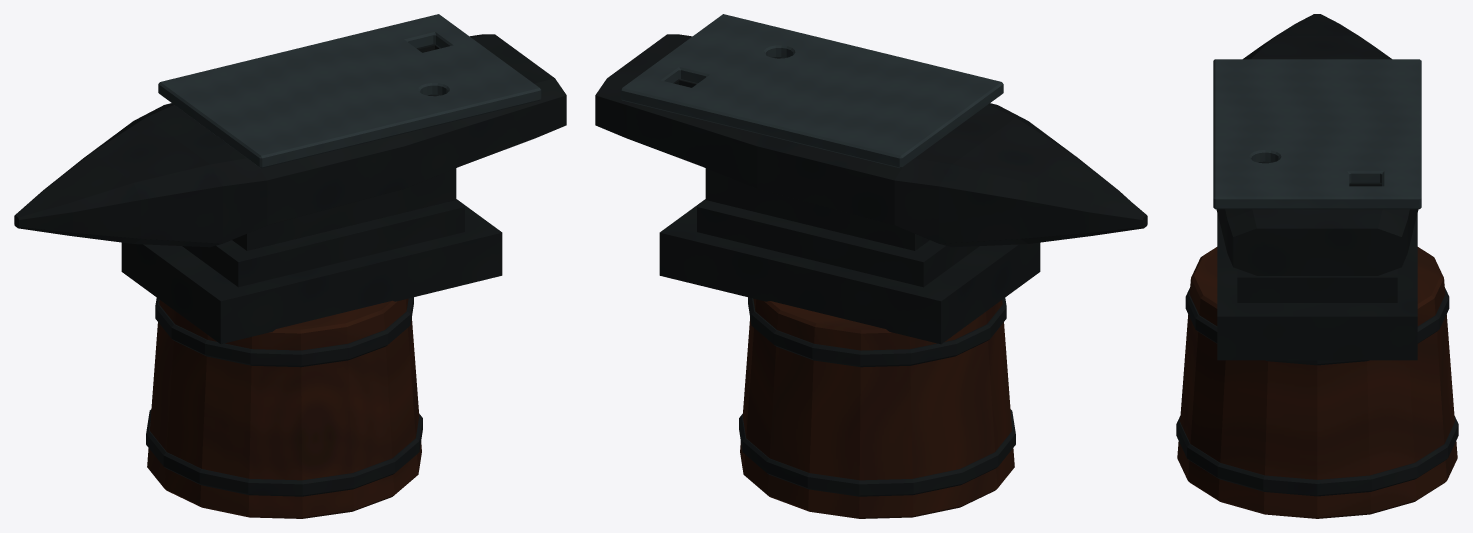
Rendered from smithy_anvil.glb.
3 renders of one model, left to right at view 1: azimuth 30°, elevation 25°; view 2: azimuth 150°, elevation 25°; view 3: azimuth 270°, elevation 25°, orthographic.
Visible parts, largest first — view 1: ForgedBody, StumpAssembly, WorkingFace; view 2: ForgedBody, StumpAssembly, WorkingFace; view 3: StumpAssembly, ForgedBody, WorkingFace.
Part boxes in pixels (box(x1,y1,x2,y2)): ForgedBody: box(14, 34, 566, 344); StumpAssembly: box(146, 297, 422, 518); WorkingFace: box(158, 14, 541, 168); ForgedBody: box(595, 34, 1147, 344); StumpAssembly: box(739, 297, 1015, 518); WorkingFace: box(620, 14, 1003, 168); StumpAssembly: box(1176, 247, 1458, 518); ForgedBody: box(1216, 14, 1418, 360); WorkingFace: box(1213, 59, 1421, 209).
Bounding box in the file's own units: 1.48 × 1 × 0.704.
Materials: 3 (3 with a texture image).
